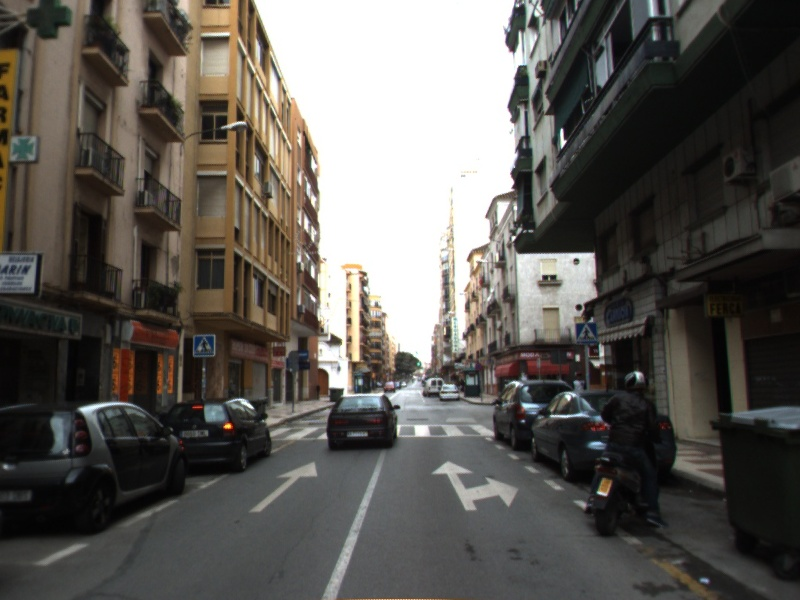STRAIGHT: (247, 460, 319, 514)
STRAIGHT_RIGHT: (429, 459, 521, 512)
